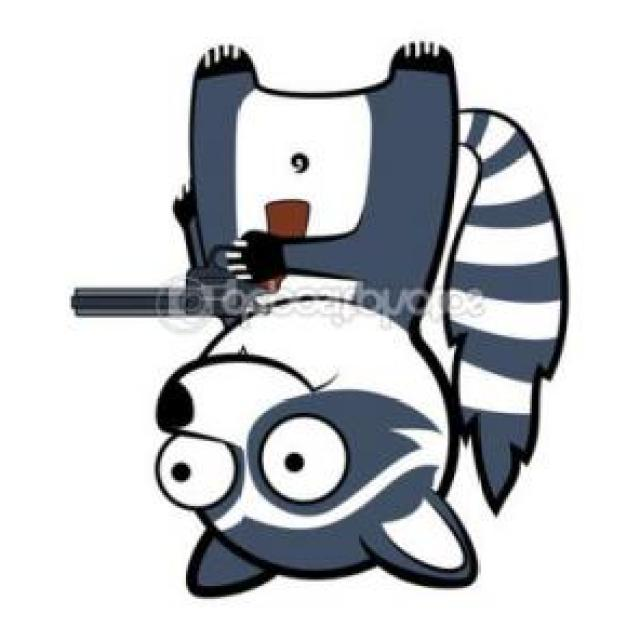pistol: (67, 198, 311, 322)
